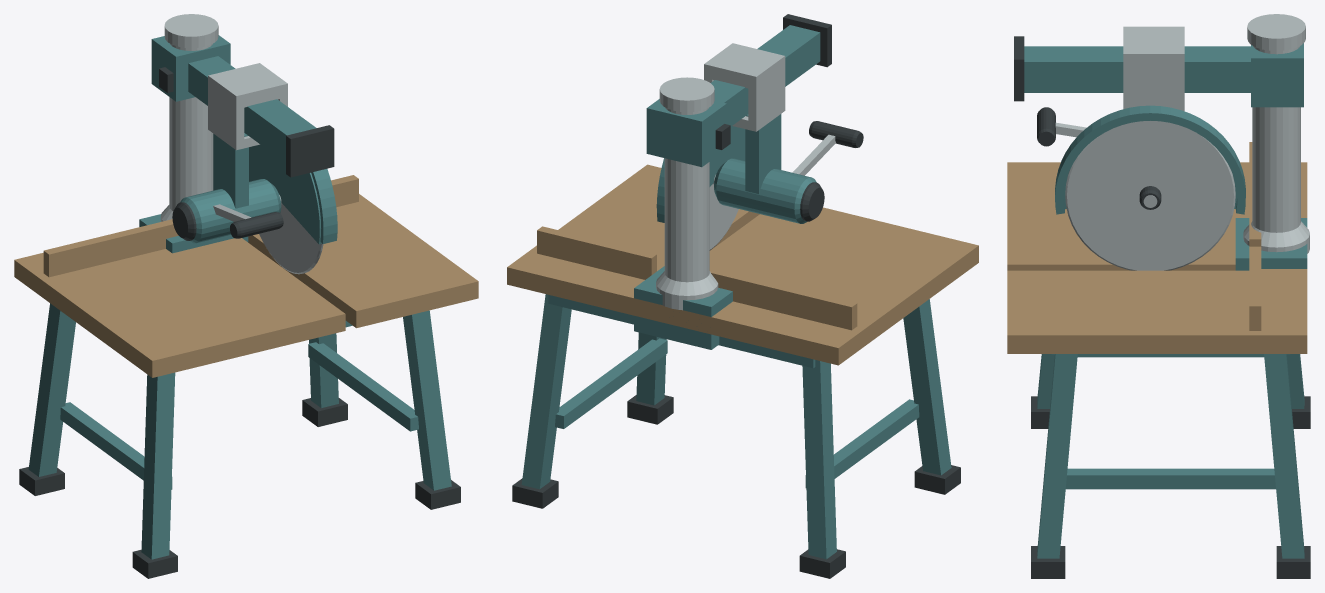
3 renders of one model, left to right at view 1: azimuth 30°, elevation 25°; view 2: azimuth 150°, elevation 25°; view 3: azimuth 270°, elevation 25°, orthographic. The views are drawn at different scales.
Parts seen in each view (by area): view 1: WholeFrontSlottedTabletop, WholeSteppedRearUpright, WholeSplayedTableLeg-1_-1, WholeSplayedTableLeg1_-1, WholeSplayedTableLeg-1_1, WholeThroughPassageHeadCarriage, WholeLeftSplitRearFence, WholeOverheadForeAftArm, WholeUpperDiskGuardBackWeb, WholeHorizontalMotorBody, WholeRightLowerStretcher, WholeRearArmColumnHead (+14 smaller); view 2: WholeFrontSlottedTabletop, WholeSteppedRearUpright, WholeSplayedTableLeg-1_1, WholeSplayedTableLeg1_1, WholeSplayedTableLeg-1_-1, WholeThroughPassageHeadCarriage, WholeLeftSplitRearFence, WholeRearArmColumnHead, WholeHorizontalMotorBody, WholeRightSplitRearFence, WholeOverheadForeAftArm, WholeRearColumnFoot (+15 smaller); view 3: WholeFrontSlottedTabletop, WholeBluntSuspendedCircularDisk, WholeSteppedRearUpright, WholeOverheadForeAftArm, WholeThroughPassageHeadCarriage, WholeSplayedTableLeg1_-1, WholeSplayedTableLeg1_1, WholeRightLowerStretcher, WholeCurvedUpperGuardRim, WholeRearArmColumnHead, WholeRearColumnFoot, WholeRightSplitRearFence (+10 smaller).
Boxes of the visible parts, x1,y1,x2,y2 form: WholeFrontSlottedTabletop: (14, 194, 478, 377); WholeSteppedRearUpright: (160, 14, 218, 221); WholeSplayedTableLeg-1_-1: (141, 372, 175, 559); WholeSplayedTableLeg1_-1: (403, 310, 451, 490); WholeSplayedTableLeg-1_1: (28, 303, 75, 476); WholeThroughPassageHeadCarriage: (208, 63, 287, 150); WholeLeftSplitRearFence: (43, 219, 178, 277); WholeOverheadForeAftArm: (188, 56, 316, 162); WholeUpperDiskGuardBackWeb: (249, 144, 321, 244); WholeHorizontalMotorBody: (180, 179, 281, 243); WholeRightLowerStretcher: (308, 342, 418, 431); WholeRearArmColumnHead: (151, 35, 230, 101); WholeFrontSlottedTabletop: (507, 164, 978, 365); WholeSteppedRearUpright: (656, 77, 718, 310); WholeSplayedTableLeg-1_1: (802, 360, 836, 559); WholeSplayedTableLeg1_1: (521, 294, 571, 489); WholeSplayedTableLeg-1_-1: (903, 299, 951, 475); WholeThroughPassageHeadCarriage: (704, 43, 785, 131); WholeLeftSplitRearFence: (709, 267, 857, 330); WholeRearArmColumnHead: (646, 99, 726, 167); WholeHorizontalMotorBody: (714, 158, 816, 223); WholeRightSplitRearFence: (537, 226, 656, 279); WholeOverheadForeAftArm: (711, 25, 820, 126); WholeRearColumnFoot: (634, 266, 732, 349); WholeFrontSlottedTabletop: (1007, 162, 1307, 353); WholeBluntSuspendedCircularDisk: (1065, 121, 1235, 270); WholeSteppedRearUpright: (1243, 14, 1309, 253); WholeOverheadForeAftArm: (1024, 46, 1250, 92); WholeThroughPassageHeadCarriage: (1123, 26, 1184, 111); WholeSplayedTableLeg1_-1: (1037, 354, 1077, 558); WholeSplayedTableLeg1_1: (1264, 354, 1304, 558); WholeRightLowerStretcher: (1065, 468, 1275, 489); WholeCurvedUpperGuardRim: (1055, 105, 1245, 214); WholeRearArmColumnHead: (1251, 43, 1303, 107); WholeRearColumnFoot: (1235, 218, 1307, 270); WholeRightSplitRearFence: (1249, 246, 1261, 330).
Size of the model in its own units: 1.2 by 1.52 by 0.89.
